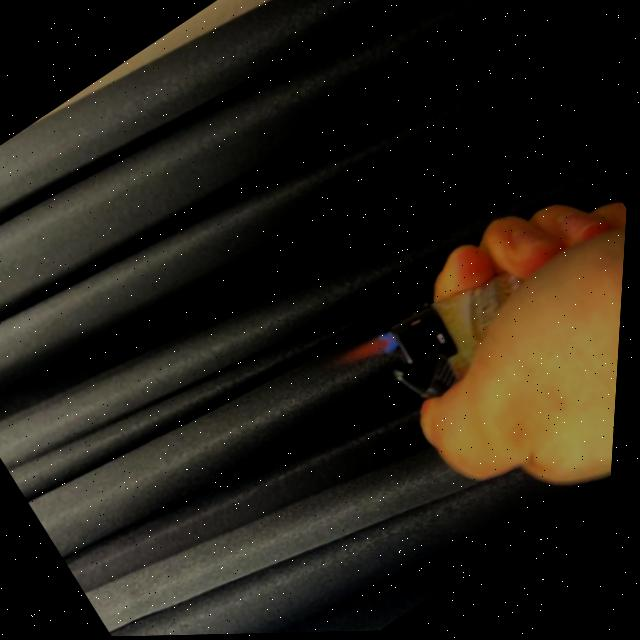Fire: (336, 326, 407, 387)
